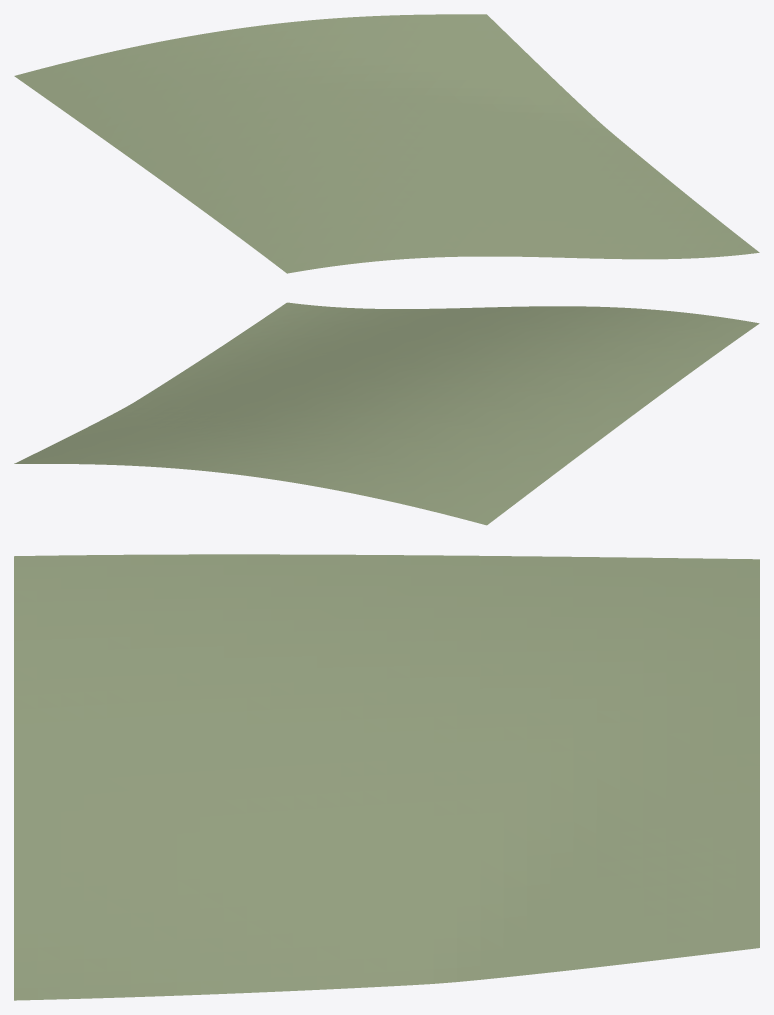
Rendered from expanse-5-26.glb.
3 views of the same model, one above another, from view 1: azimuth 30°, elevation 25°; view 2: azimuth 150°, elevation 25°; view 3: azimuth 270°, elevation 25° (orthographic). The views are drawn at different scales.
Visible parts, largest first — view 1: expanse-5-26; view 2: expanse-5-26; view 3: expanse-5-26.
Part boxes in pixels (<box>): expanse-5-26: <box>14,14,759,273</box>; expanse-5-26: <box>14,302,759,525</box>; expanse-5-26: <box>14,554,759,1000</box>.
Size of the model in its own units: 256 by 49.55 by 256.
